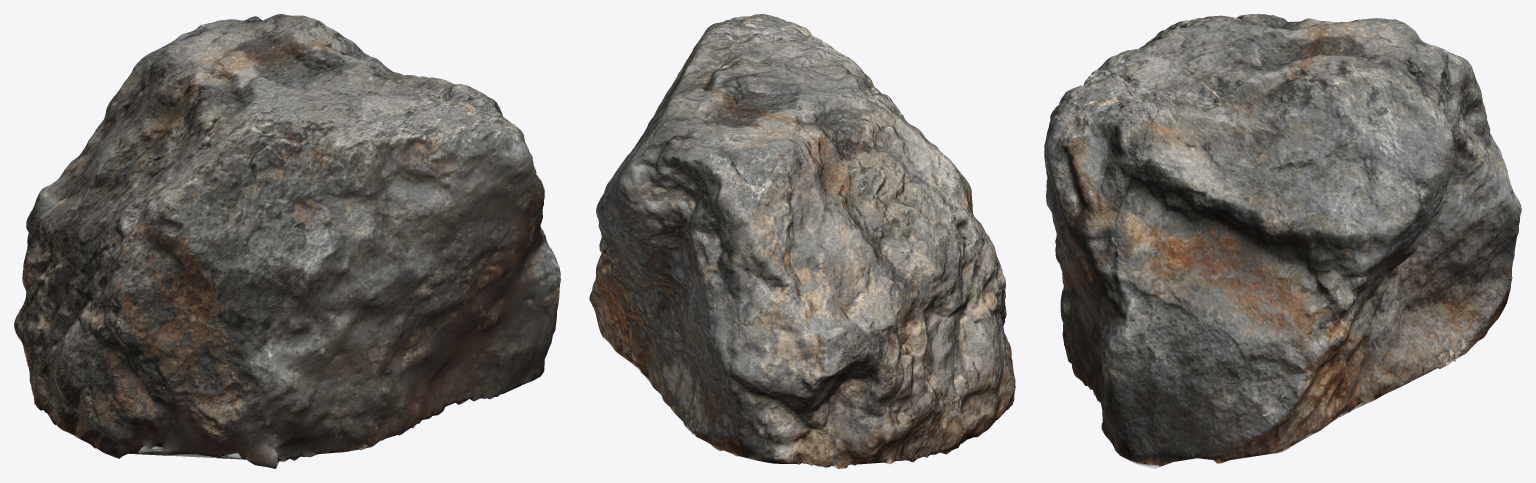
File: sparse3.glb
3 views of the same model, side by side, from view 1: azimuth 30°, elevation 25°; view 2: azimuth 150°, elevation 25°; view 3: azimuth 270°, elevation 25° (orthographic). The views are drawn at different scales.
Bounding box in the file's own units: 4.22 × 2.9 × 3.75.
1 material, 1 textured.
